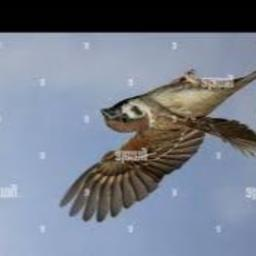Sparrow: (58, 61, 256, 222)
